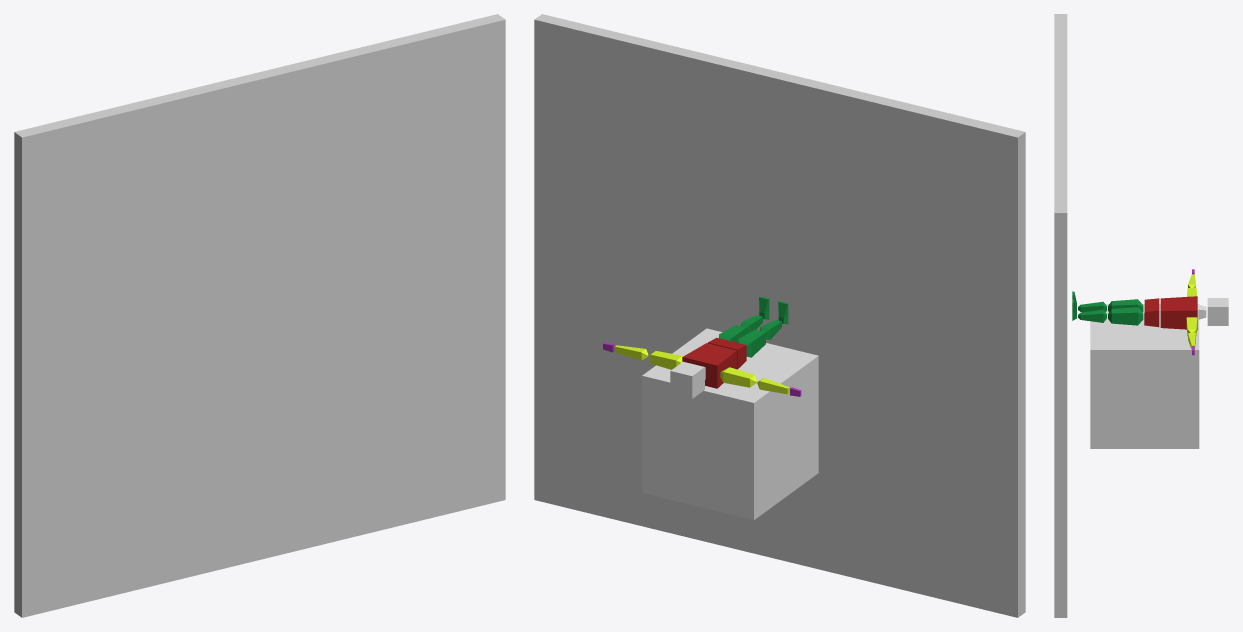
3 views of the same model, side by side, from view 1: azimuth 30°, elevation 25°; view 2: azimuth 150°, elevation 25°; view 3: azimuth 270°, elevation 25° (orthographic). The views are drawn at different scales.
Visible parts, largest first — view 1: GroundPlane; view 2: GroundPlane, Cube, Torso, Head; view 3: Cube, GroundPlane, Torso, Head, LeftThigh, Waist, RightThigh, LeftCalve.
Part boxes in pixels (x1,y1,x2,y2): GroundPlane: (14,14,505,617); GroundPlane: (534,14,1025,617); Cube: (642,328,818,520); Torso: (682,343,736,388); Head: (670,361,704,398); Cube: (1090,304,1199,448); GroundPlane: (1054,14,1067,617); Torso: (1160,296,1197,330); Head: (1207,298,1228,325); LeftThigh: (1108,307,1143,325); Waist: (1144,298,1159,327); RightThigh: (1108,299,1143,312); LeftCalve: (1078,309,1106,322).
Bounding box in the file's own units: 39.12 × 14.51 × 37.14.
